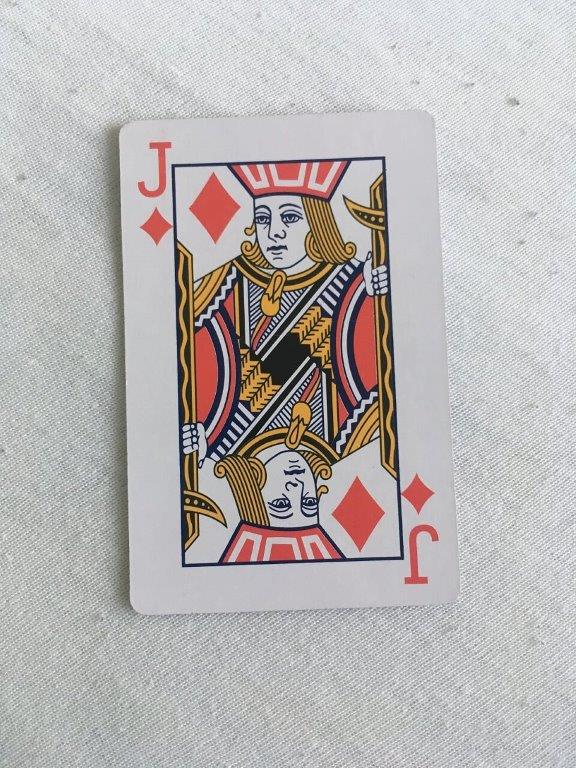JD: (114, 106, 464, 620)
